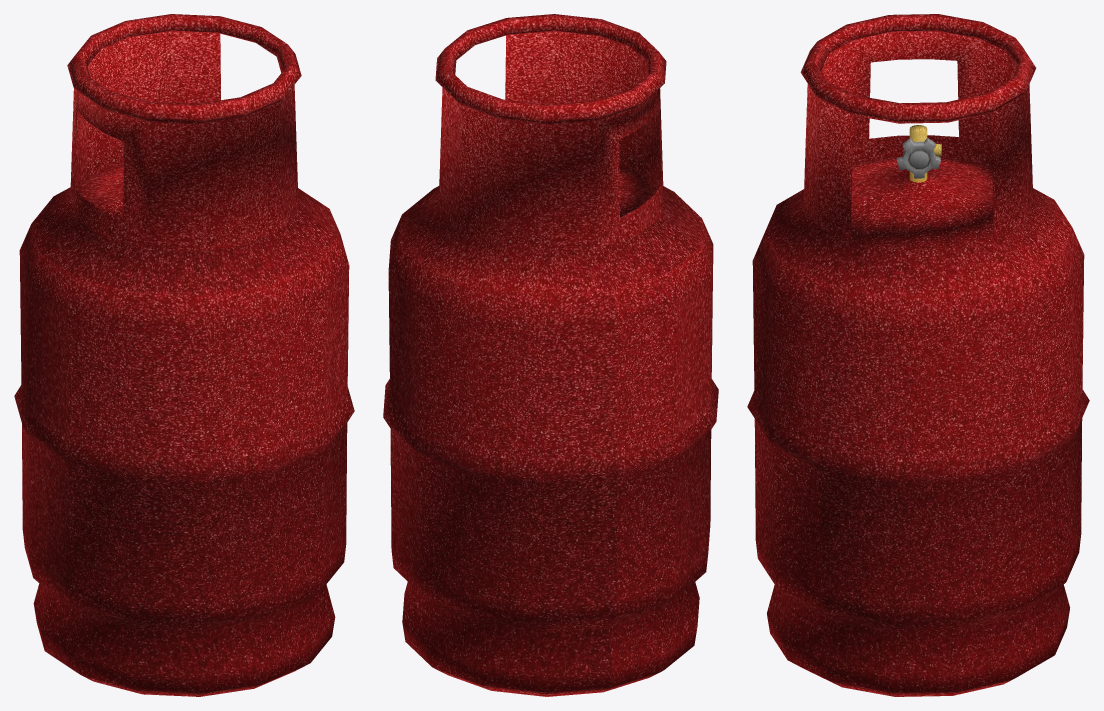
File: Tank.fbx
The picture shows the model from 3 angles, left to right: view 1: azimuth 30°, elevation 25°; view 2: azimuth 150°, elevation 25°; view 3: azimuth 270°, elevation 25°; orthographic projection.
Parts seen in each view (by area): view 1: GasTank.001; view 2: GasTank.001; view 3: GasTank.001.
Boxes of the visible parts, box(x1,y1,x2,y2) form: GasTank.001: box(14, 14, 354, 696); GasTank.001: box(383, 14, 718, 696); GasTank.001: box(747, 14, 1089, 696).
Size of the model in its own units: 970 by 1850 by 985.
Materials: 1 (1 with a texture image).
